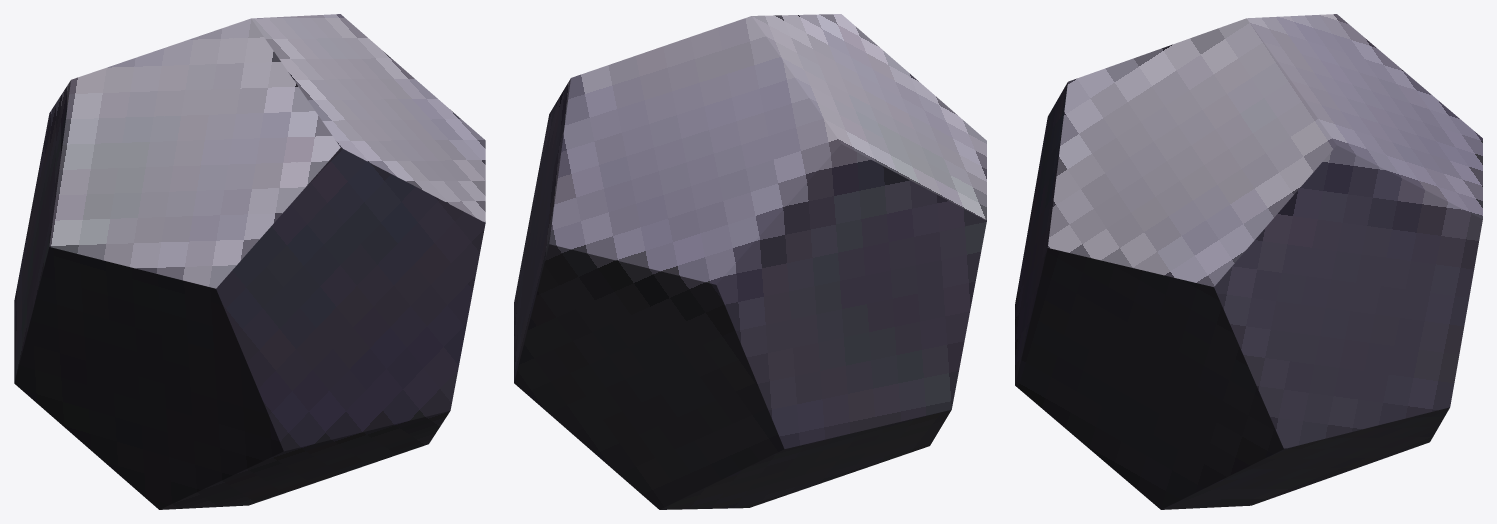
Rendered from dice12.obj.
3 views of the same model, side by side, from view 1: azimuth 30°, elevation 25°; view 2: azimuth 150°, elevation 25°; view 3: azimuth 270°, elevation 25° (orthographic).
Visible parts, largest first — view 1: Hedra001; view 2: Hedra001; view 3: Hedra001.
Part boxes in pixels (x1,y1,x2,y2): Hedra001: [14, 14, 485, 509]; Hedra001: [514, 14, 986, 509]; Hedra001: [1015, 14, 1482, 509].
Bounding box in the file's own units: 1.17 × 1.25 × 1.09.
